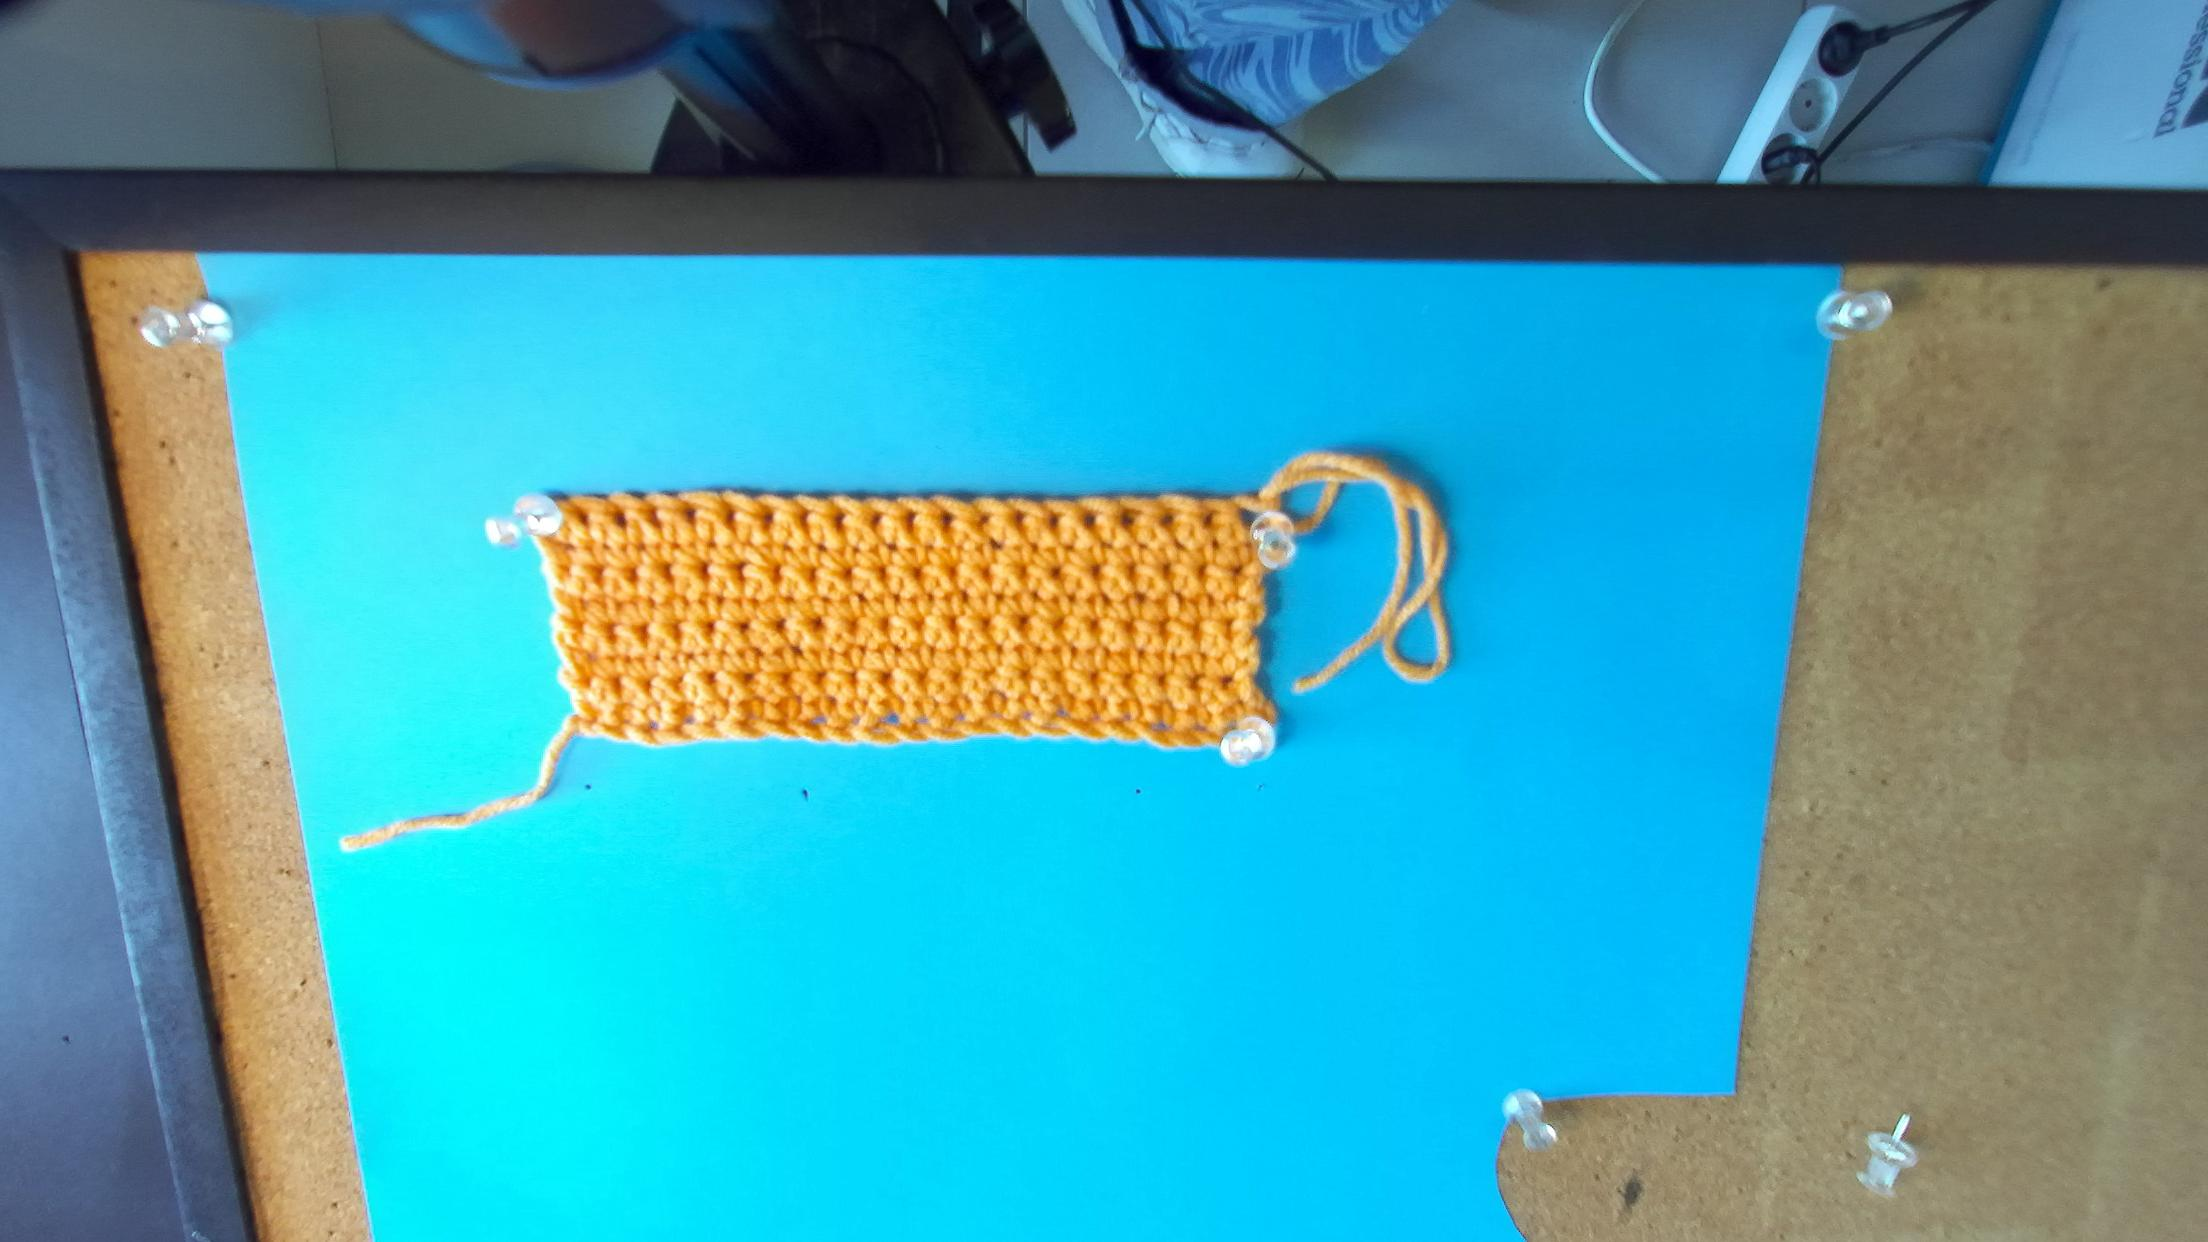hole: (1237, 507, 1260, 531), (720, 503, 740, 528), (754, 505, 778, 525), (645, 505, 663, 529), (831, 507, 849, 529), (573, 508, 590, 531), (611, 508, 628, 529), (940, 511, 955, 534), (682, 505, 699, 525), (901, 510, 917, 529), (1118, 513, 1139, 526), (798, 507, 813, 525), (869, 513, 883, 532), (1080, 511, 1099, 525), (1046, 513, 1062, 528), (1011, 511, 1028, 525), (1201, 513, 1215, 528), (975, 513, 992, 525), (1159, 513, 1175, 525)
swatch: (520, 491, 1277, 766)
